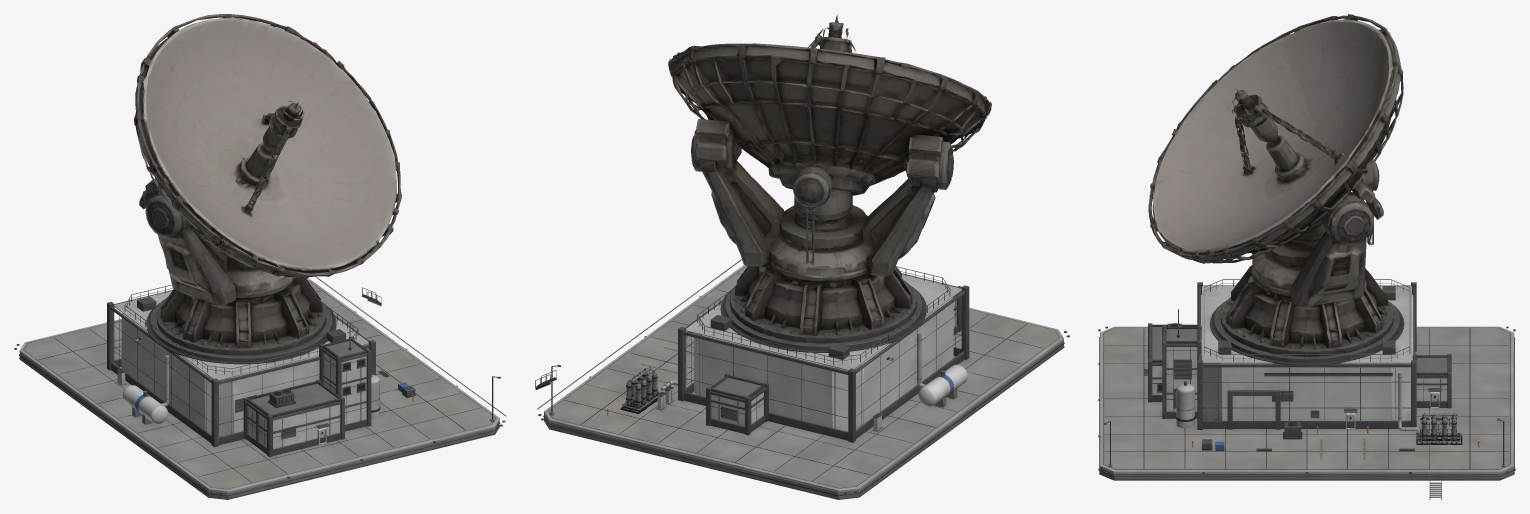
File: radio_telescope.lite.glb
The picture shows the model from 3 angles, left to right: view 1: azimuth 30°, elevation 25°; view 2: azimuth 150°, elevation 25°; view 3: azimuth 270°, elevation 25°; orthographic projection. The views are drawn at different scales.
Parts seen in each view (by area): view 1: parts_colony-dishMount, hull; view 2: parts_colony-dishMount, hull, parts_colony-filterBank; view 3: hull, parts_colony-dishMount, parts_colony-filterBank.
Part boxes in pixels (<box>): parts_colony-dishMount: <box>134,14,401,355</box>; hull: <box>14,277,506,499</box>; parts_colony-dishMount: <box>668,14,991,343</box>; hull: <box>535,259,1069,499</box>; parts_colony-filterBank: <box>620,367,659,413</box>; hull: <box>1098,279,1515,499</box>; parts_colony-dishMount: <box>1148,14,1403,356</box>; parts_colony-filterBank: <box>1416,412,1462,444</box>.
Bounding box in the file's own units: 54.28 × 55.3 × 58.42.
5 materials, 5 textured.
